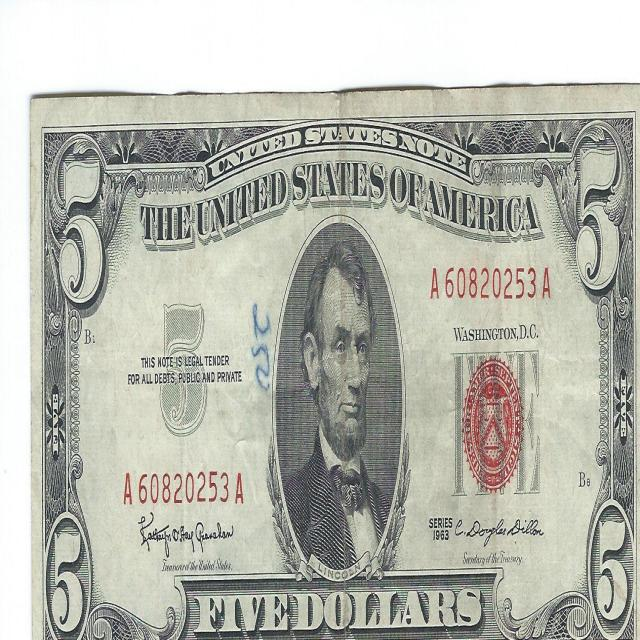5-Front: (31, 99, 640, 640)
